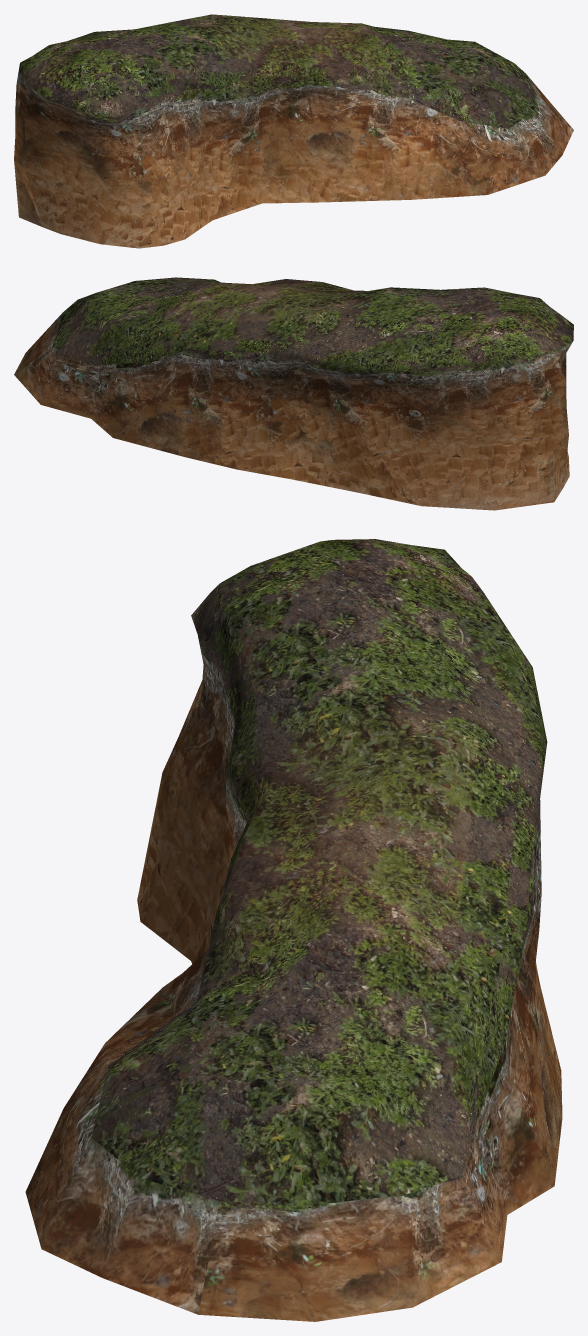
File: Ground Object 01.FBX
The picture shows the model from 3 angles, top to bottom: view 1: azimuth 30°, elevation 25°; view 2: azimuth 150°, elevation 25°; view 3: azimuth 270°, elevation 25°; orthographic projection. The views are drawn at different scales.
Visible parts, largest first — view 1: Ground 01; view 2: Ground 01; view 3: Ground 01.
Boxes of the visible parts, x1=… form: Ground 01: x1=14, y1=14, x2=573, y2=248; Ground 01: x1=14, y1=277, x2=573, y2=510; Ground 01: x1=25, y1=539, x2=562, y2=1321.
Size of the model in its own units: 104 by 31.17 by 46.44.
